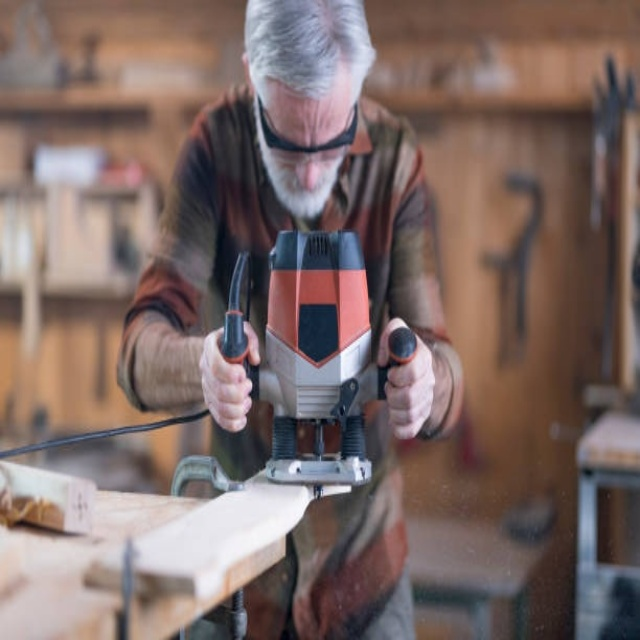Gafas: (256, 92, 360, 155)
Sin_guantes: (379, 317, 436, 439), (200, 320, 258, 433)
